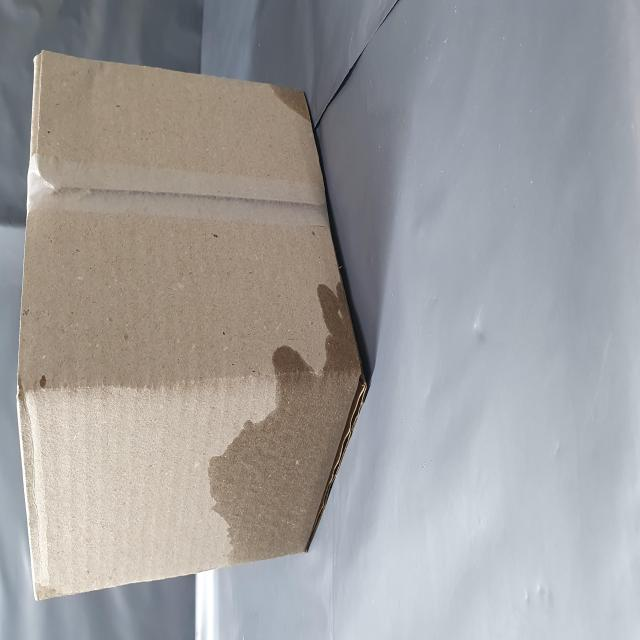wet: (40, 368, 202, 640), (288, 478, 316, 566)
